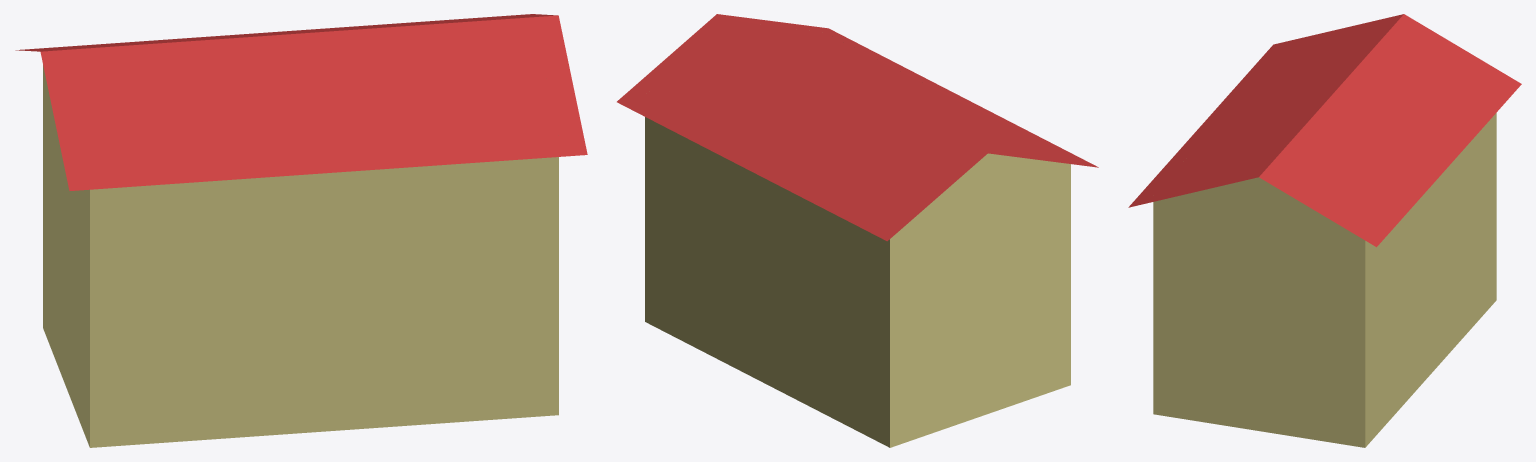
The picture shows the model from 3 angles, left to right: view 1: azimuth 30°, elevation 25°; view 2: azimuth 150°, elevation 25°; view 3: azimuth 270°, elevation 25°; orthographic projection. The views are drawn at different scales.
Parts seen in each view (by area): view 1: group_5, group_3, group_4; view 2: group_5, group_3, group_4; view 3: group_5, group_3, group_4.
Part boxes in pixels (x1,y1,x2,y2): group_5: [43, 65, 558, 447]; group_3: [15, 15, 558, 190]; group_4: [41, 14, 587, 190]; group_5: [645, 117, 1070, 447]; group_3: [617, 14, 1098, 241]; group_4: [617, 14, 1095, 165]; group_5: [1153, 113, 1496, 447]; group_3: [1154, 14, 1521, 246]; group_4: [1128, 14, 1403, 246].
Size of the model in its own units: 18.4 by 15.11 by 11.11.
